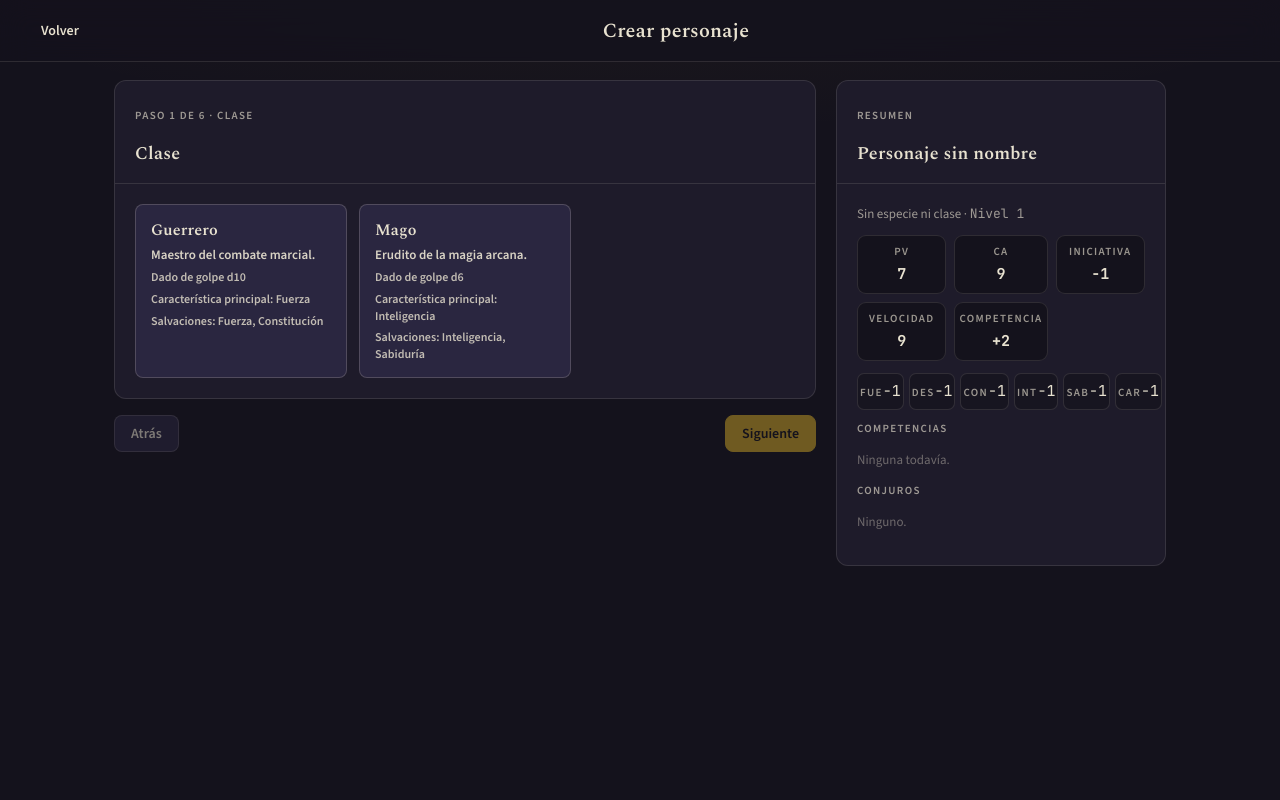
Test: CrearPersonajeScreen wizard › cannot advance past Clase without choosing a class
expect the button "Siguiente" is disabled: met, box x1=725 y1=415 x2=816 y2=452
What coordinates should you click on to do the following:
click the button "Guerrero"
I would click on:
 (241, 291)
Its box is x1=135 y1=204 x2=347 y2=378.
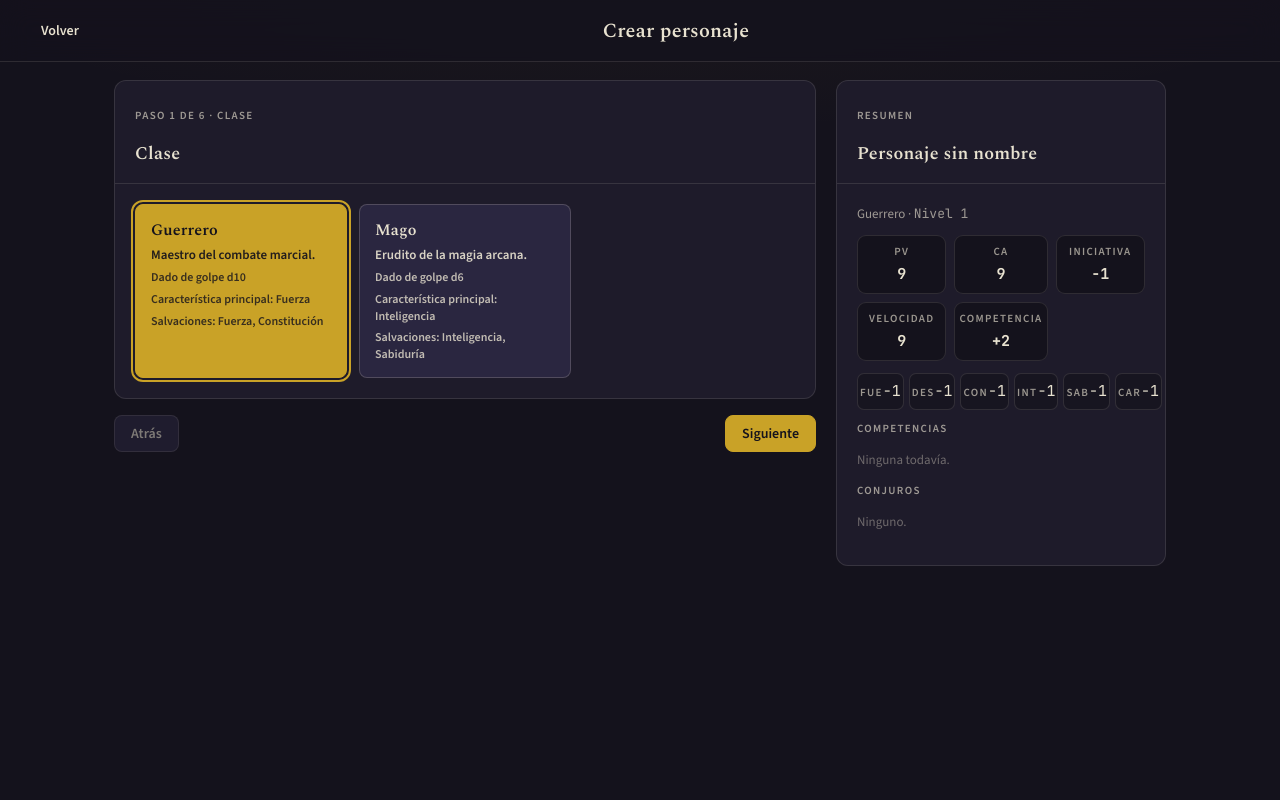
expect the button "Siguiente" is enabled: met, box x1=725 y1=415 x2=816 y2=452
